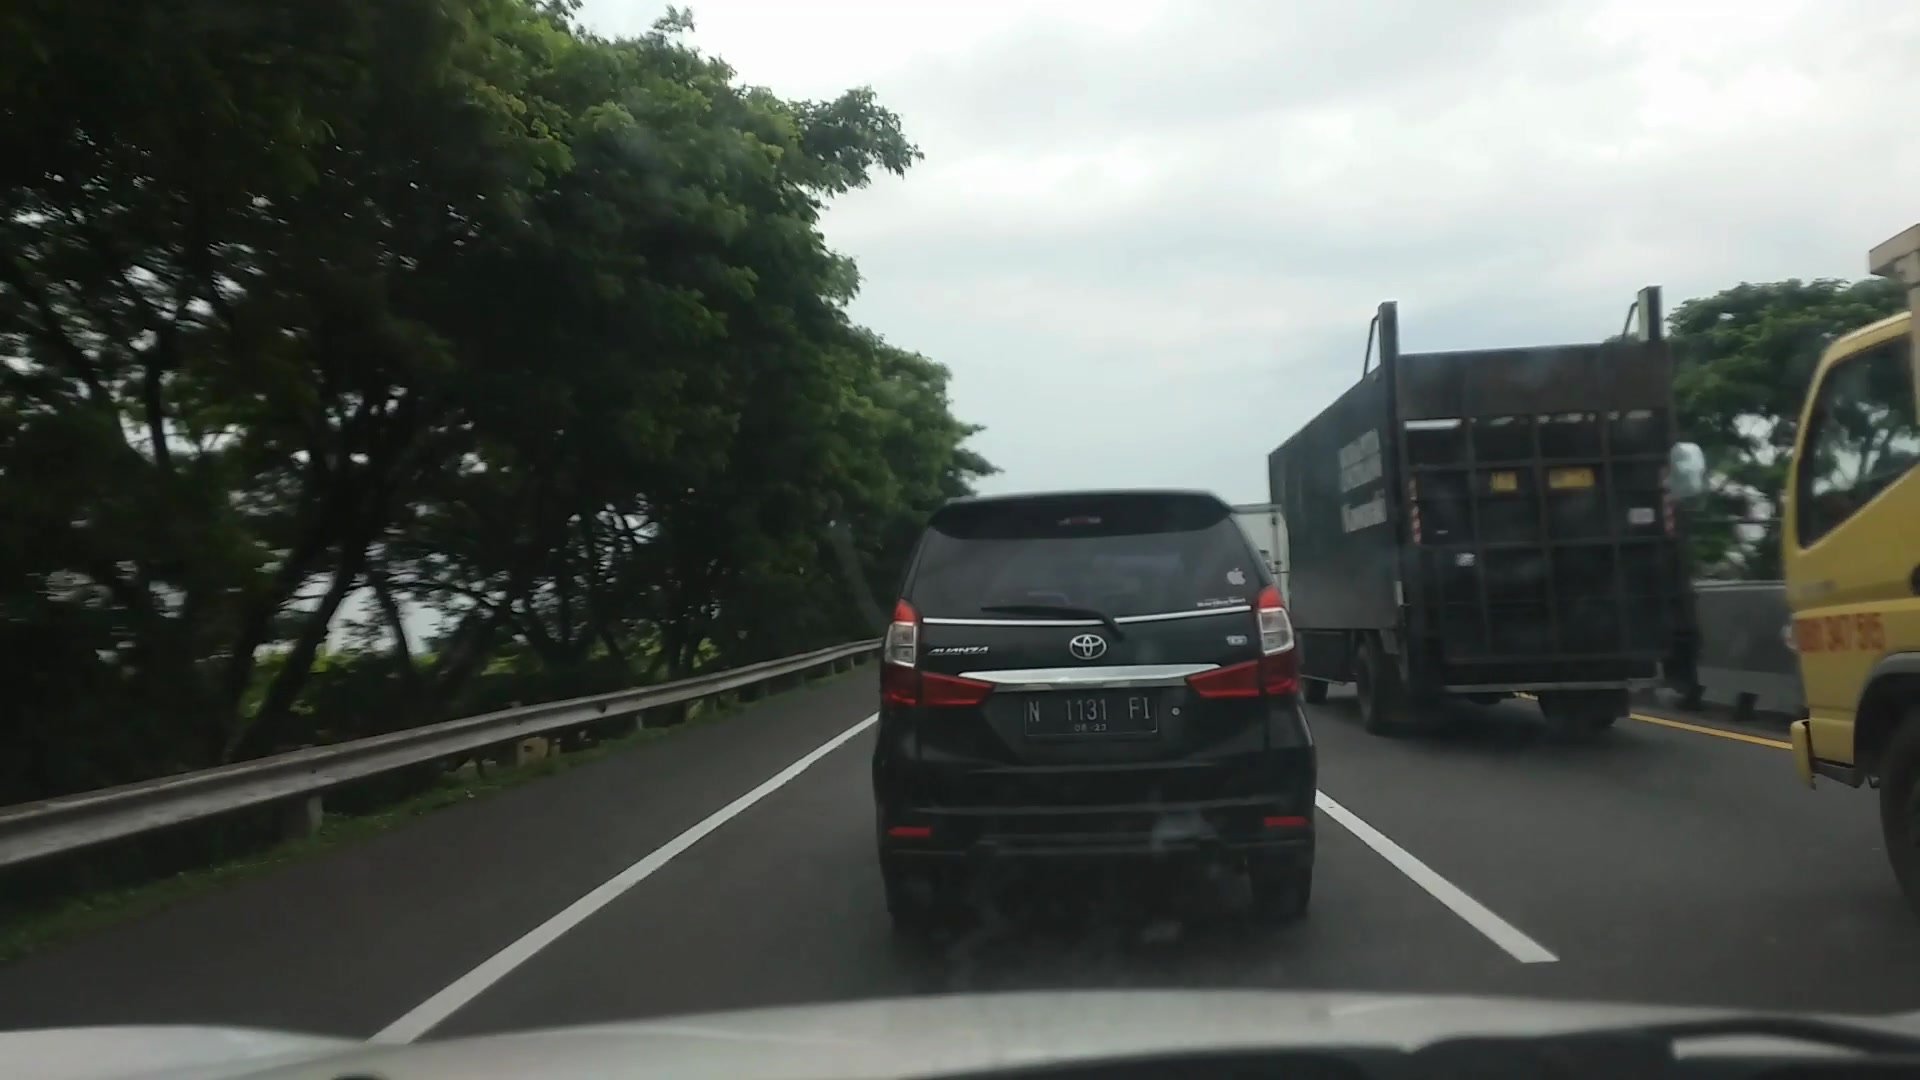plate_positive: (1025, 691, 1156, 735)
